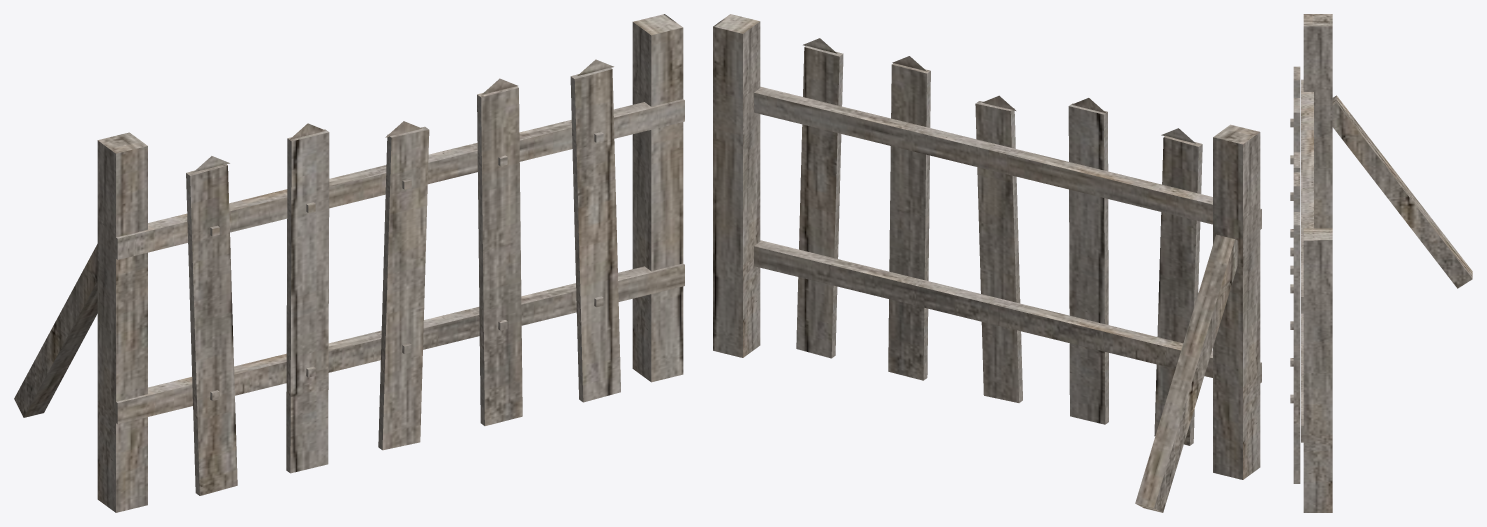
Rendered from wooden_fence_tex.glb.
The picture shows the model from 3 angles, left to right: view 1: azimuth 30°, elevation 25°; view 2: azimuth 150°, elevation 25°; view 3: azimuth 270°, elevation 25°; orthographic projection. The views are drawn at different scales.
Visible parts, largest first — view 1: wooden_fence; view 2: wooden_fence; view 3: wooden_fence.
Boxes of the visible parts, x1,y1,x2,y2 form: wooden_fence: [14, 14, 684, 512]; wooden_fence: [713, 14, 1261, 512]; wooden_fence: [1290, 14, 1472, 512].
Bounding box in the file's own units: 1.95 × 1.18 × 0.6923.
1 material, 1 textured.
